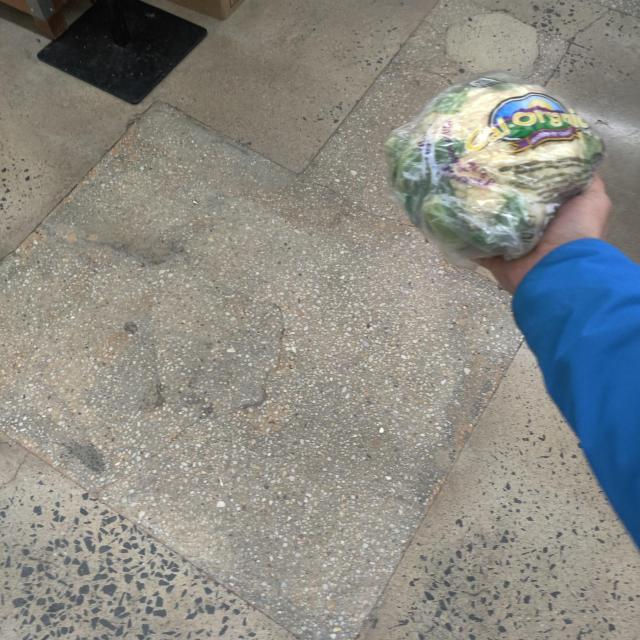Cauliflower: (380, 74, 622, 268)
